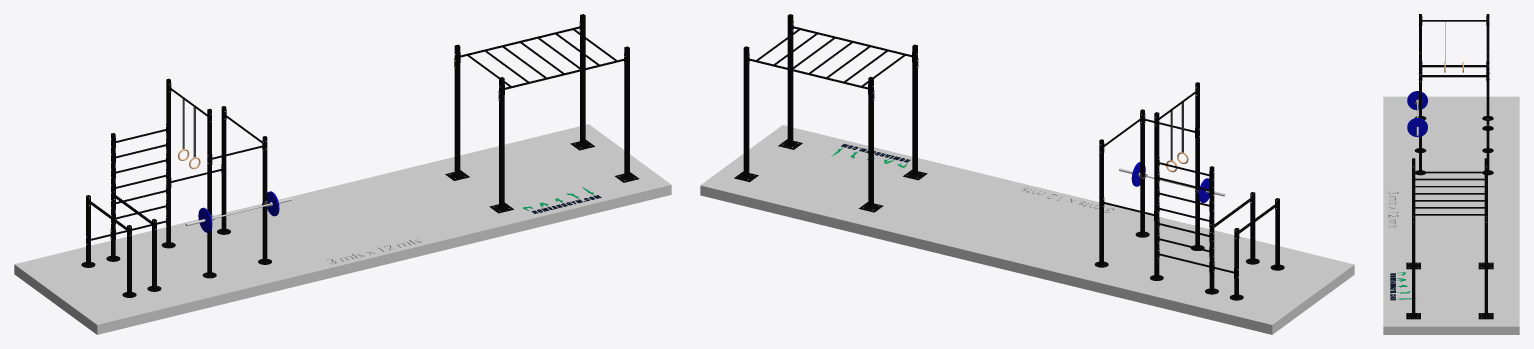
3 views of the same model, side by side, from view 1: azimuth 30°, elevation 25°; view 2: azimuth 150°, elevation 25°; view 3: azimuth 270°, elevation 25° (orthographic). The views are drawn at different scales.
Visible parts, largest first — view 1: currentmodel.wrl.cleaner.materialmerger.gles; view 2: currentmodel.wrl.cleaner.materialmerger.gles; view 3: currentmodel.wrl.cleaner.materialmerger.gles.
Part boxes in pixels (bbox=[...]): currentmodel.wrl.cleaner.materialmerger.gles: bbox=[14, 14, 671, 334]; currentmodel.wrl.cleaner.materialmerger.gles: bbox=[700, 14, 1354, 334]; currentmodel.wrl.cleaner.materialmerger.gles: bbox=[1383, 14, 1519, 334].
Bounding box in the file's own units: 12000 × 3508 × 3000.
